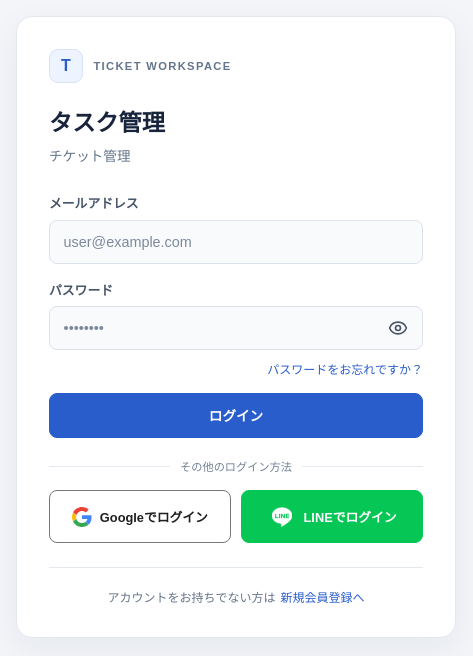
LoginForm 表示・入力検証 › 目のアイコンから入力値を保ったままパスワードを表示・非表示にできること
Type "example123" into the password field labelled "パスワード" at (236,328), box [49,306,423,350]
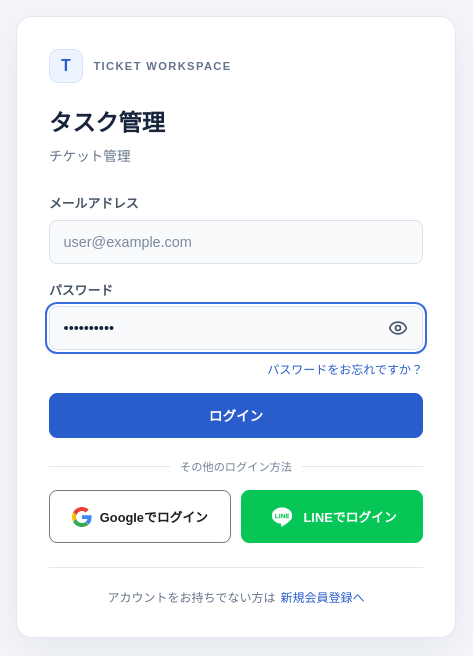
Click the button named "パスワードを表示" at (398,328), box [377,311,418,345]
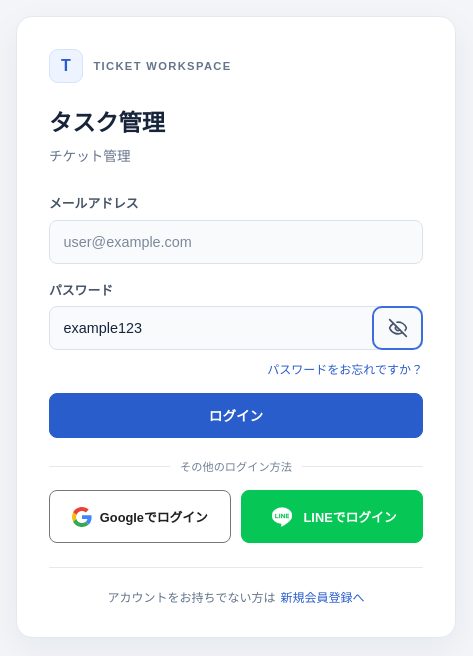
Check: the field labelled "パスワード" shows its text, box [49,306,423,350]
Click the button named "パスワードを隠す" at (398,328), box [377,311,418,345]
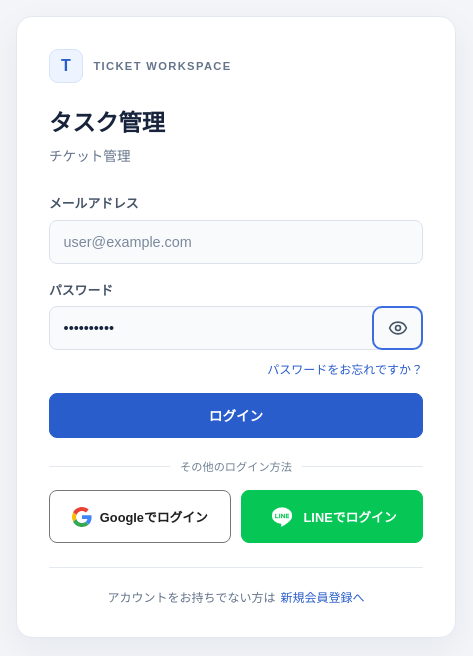
Check: the password field labelled "パスワード" hides its text, box [49,306,423,350]
